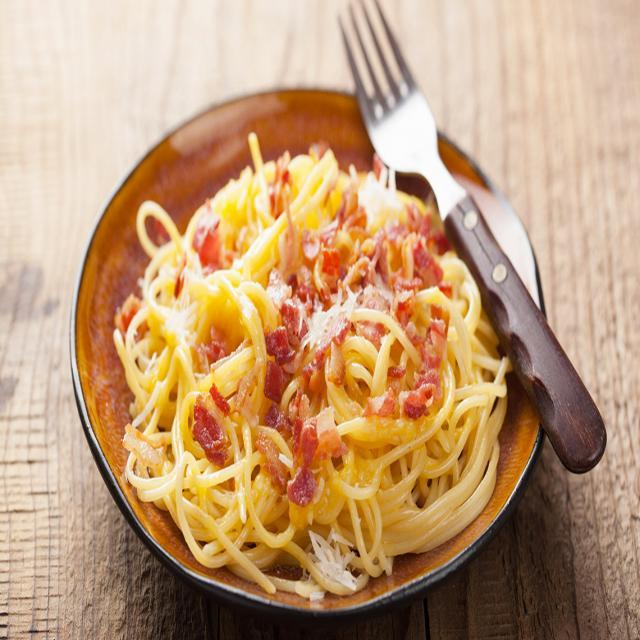Pasta with carbonara sauce: (108, 104, 567, 622)
